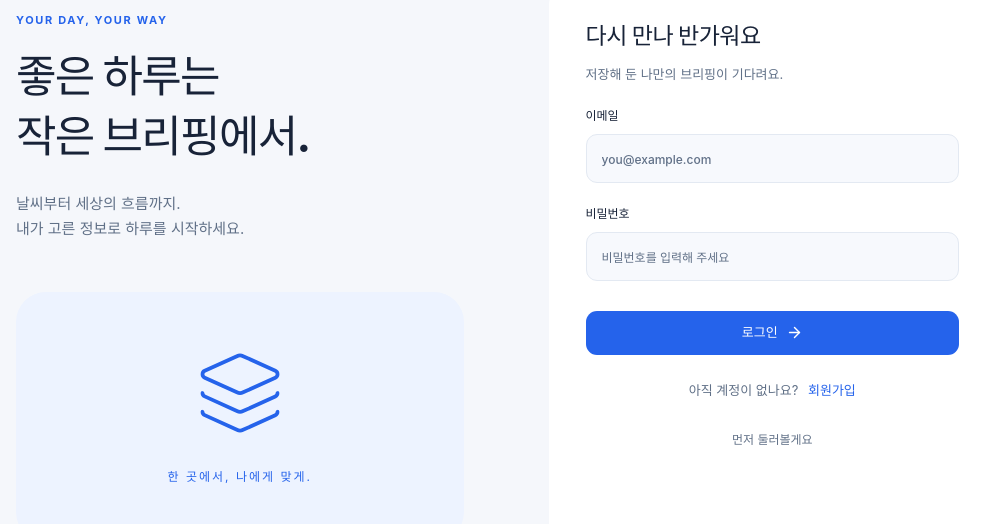
Test: 핵심 UI 흐름 › 로그인 오류는 사용자 안내로 표시한다
Type "me@example.com" into the field labelled "이메일" at (772, 158), box [586,134,959,183]
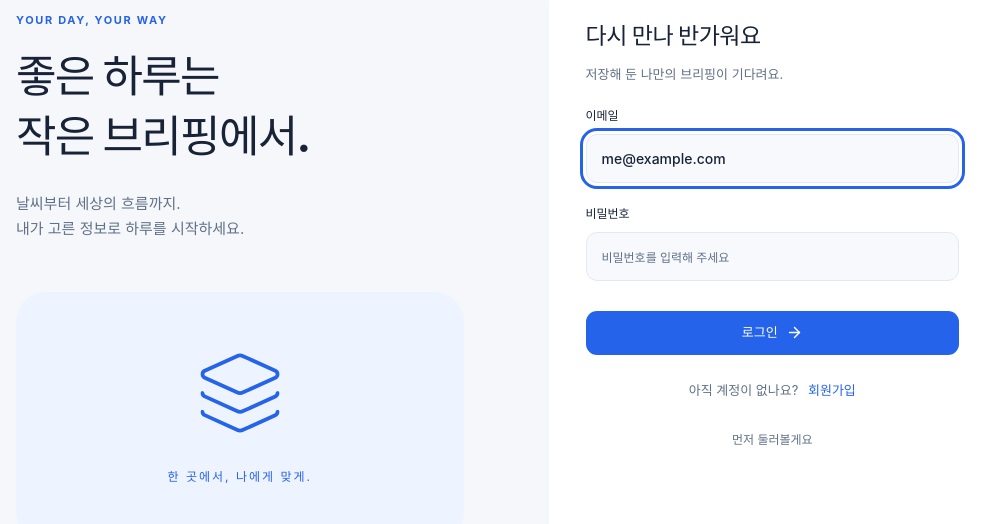
Type "wrong-password" into the password field labelled "비밀번호" at (772, 256), box [586,232,959,281]
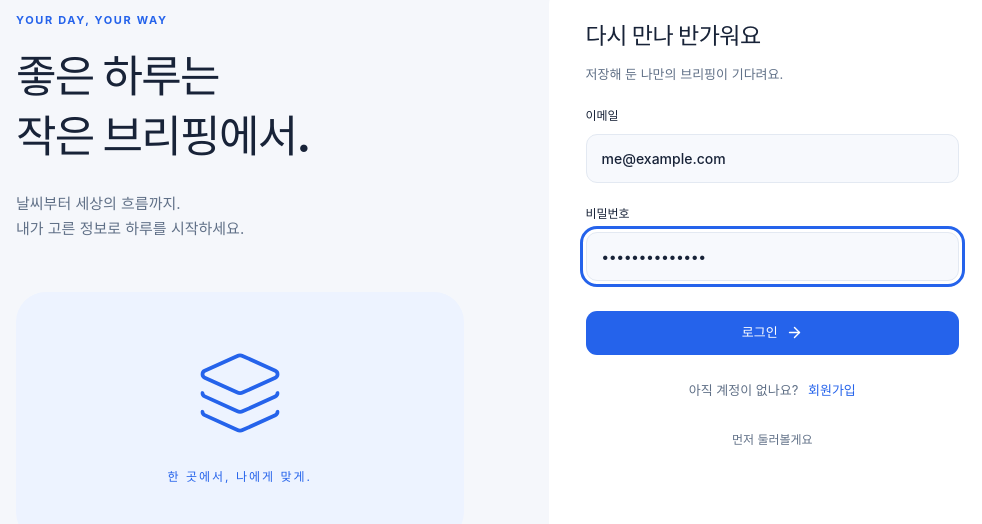
Click the button "로그인" at (772, 333), box [586,311,959,355]
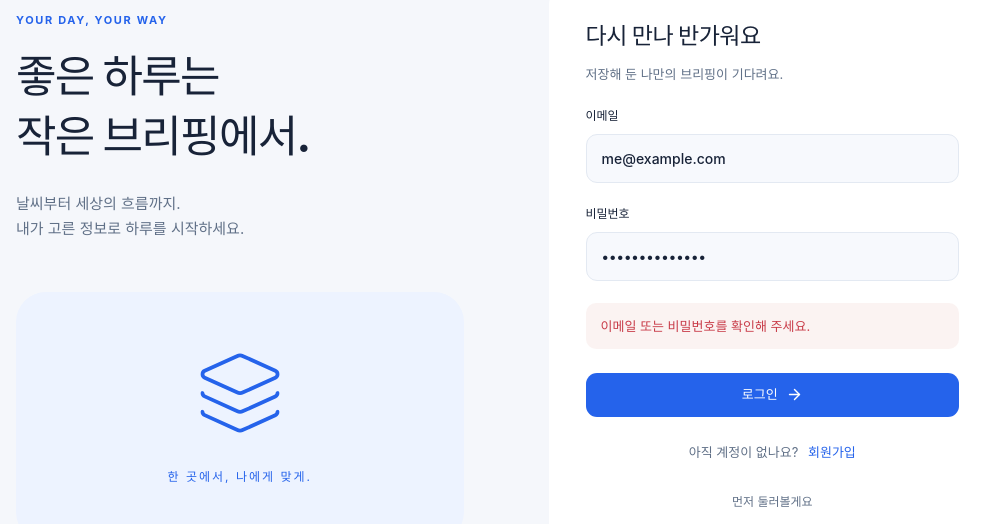
Expected: the message shows "비밀번호", [600,318,810,334]
